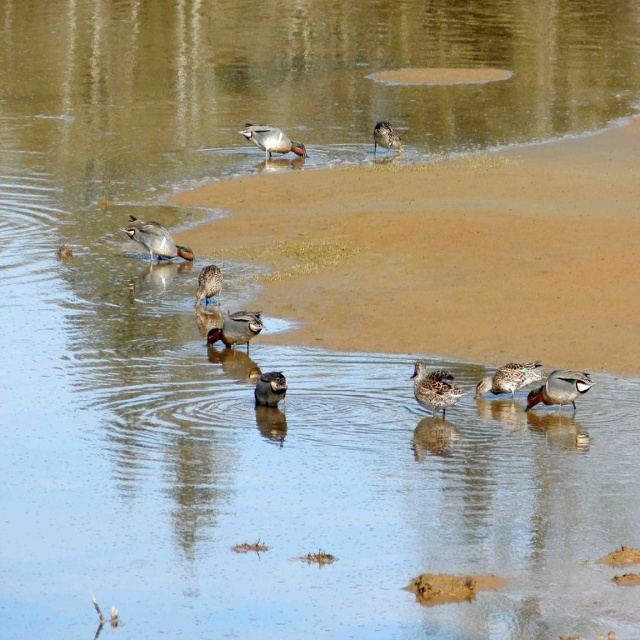Duck: (526, 363, 598, 430), (123, 209, 194, 269), (410, 364, 469, 415), (237, 128, 310, 166), (470, 364, 543, 396), (207, 310, 262, 350), (194, 263, 229, 314), (246, 373, 288, 404), (371, 118, 400, 158)
